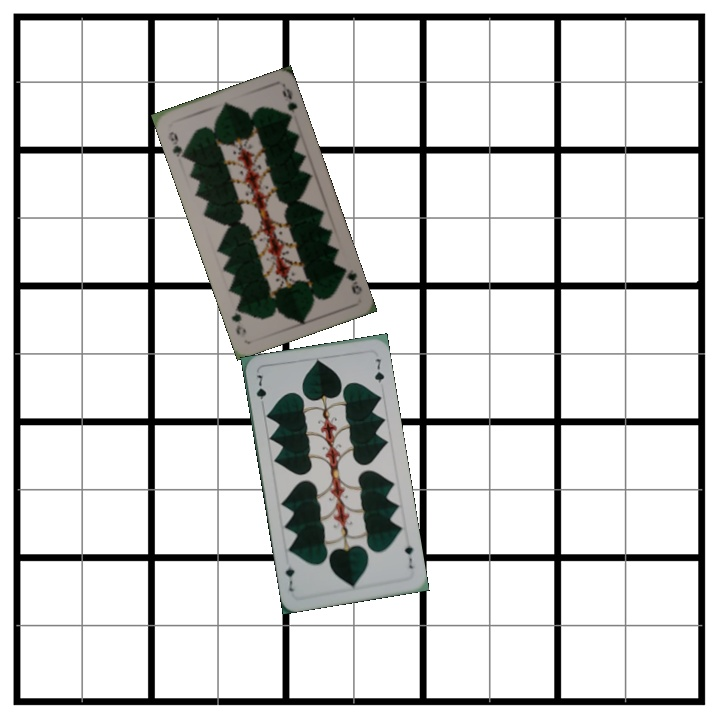G7: (252, 371, 269, 410), (400, 541, 416, 571)
G9: (336, 263, 365, 298), (164, 128, 189, 161)
